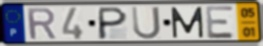4: (61, 6, 86, 41)
E: (204, 5, 236, 40)
M: (169, 6, 206, 40)
P: (96, 5, 130, 41)
R: (25, 6, 58, 41)
U: (130, 5, 163, 41)
